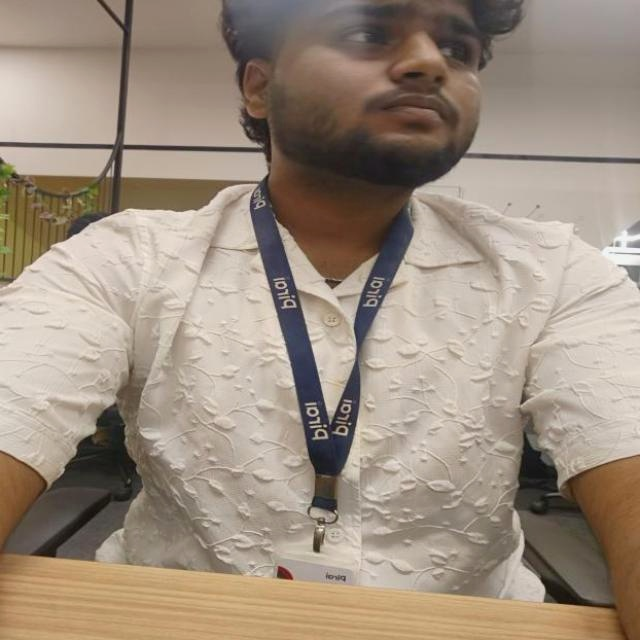ID_card: (263, 202, 431, 580)
